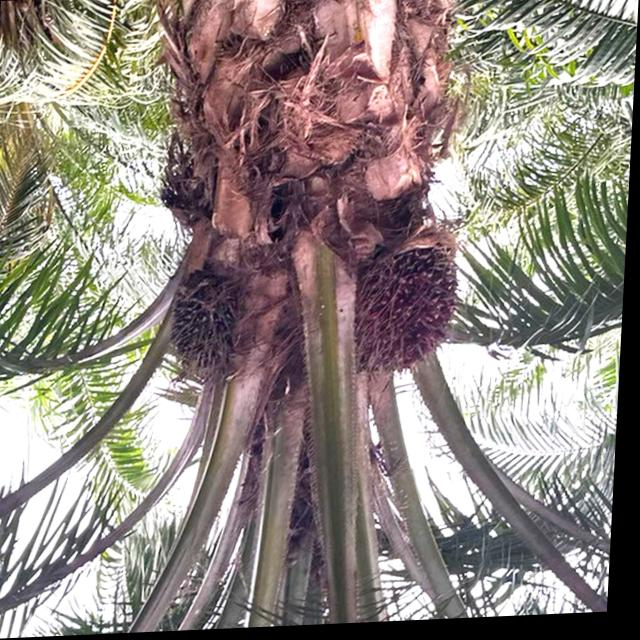ripe: (343, 234, 475, 390)
